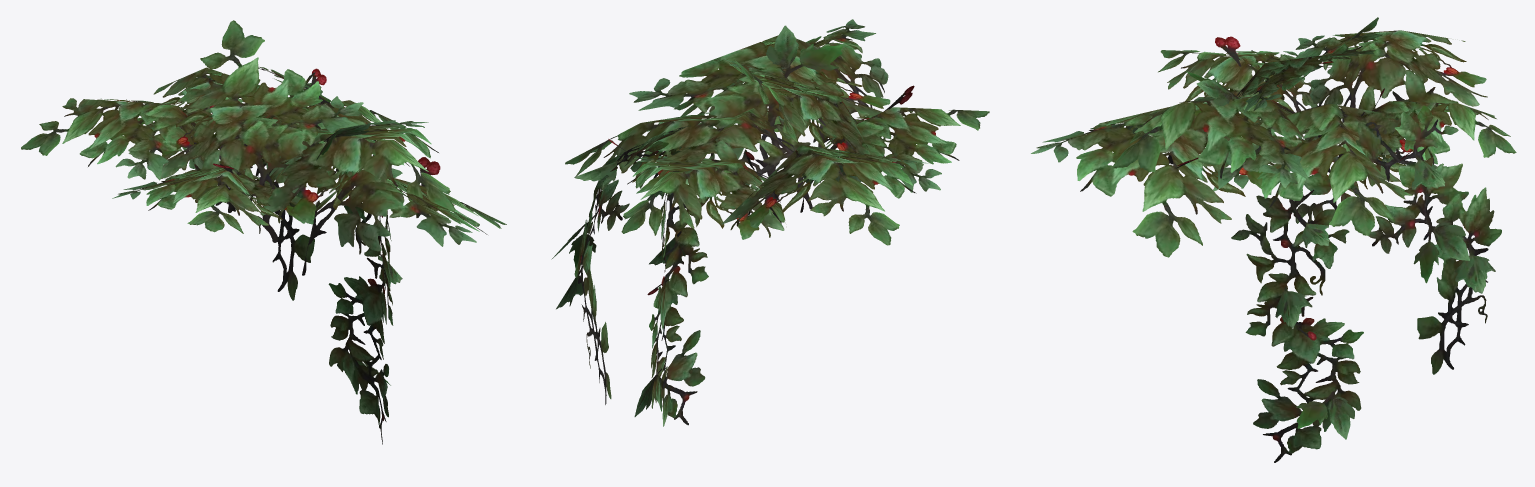
3 views of the same model, side by side, from view 1: azimuth 30°, elevation 25°; view 2: azimuth 150°, elevation 25°; view 3: azimuth 270°, elevation 25° (orthographic). The views are drawn at different scales.
Bounding box in the file's own units: 4.79 × 5.4 × 5.92.
1 material, 1 textured.
